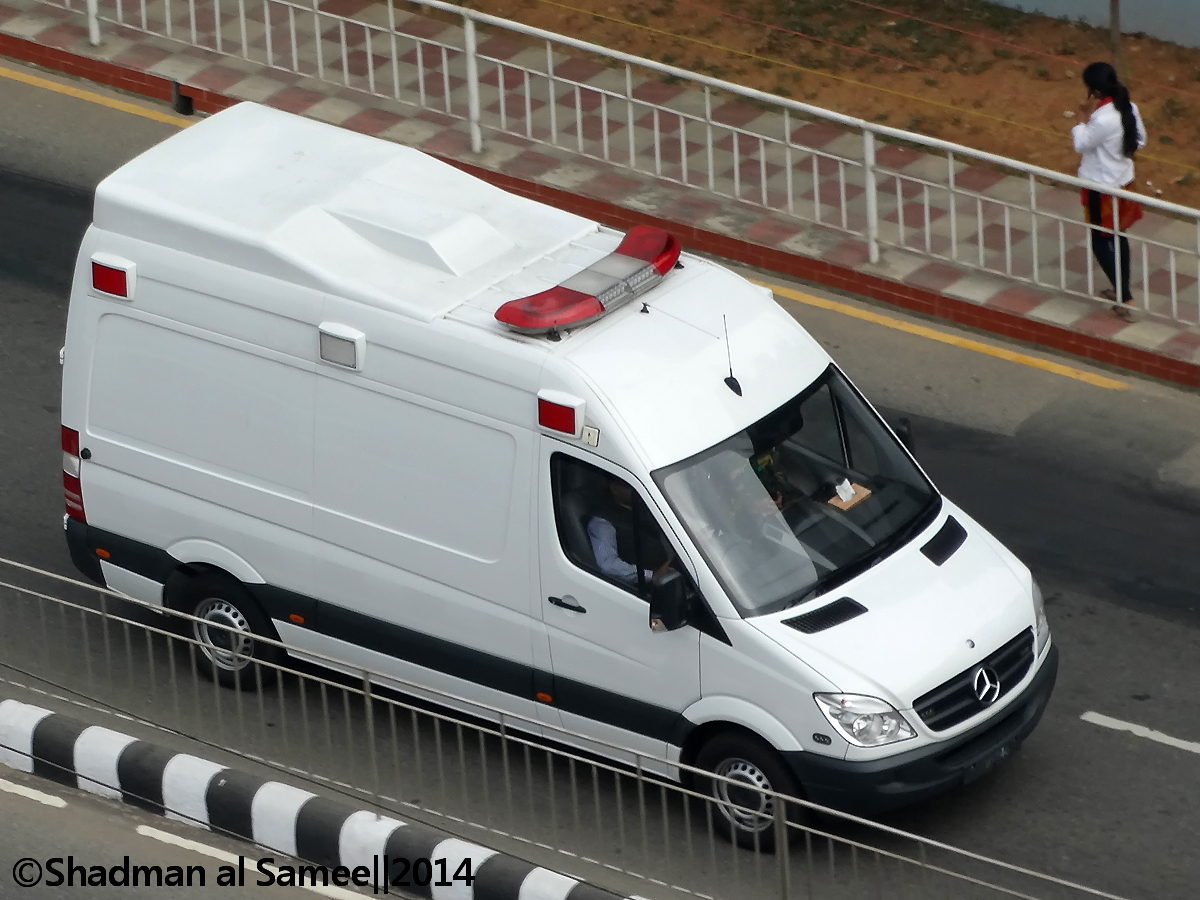Ambulance: (45, 96, 1057, 833)
